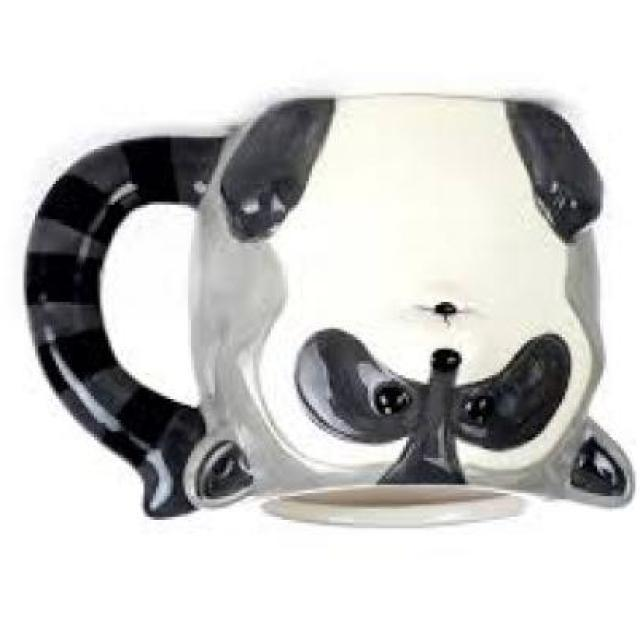cup: (20, 84, 640, 533)
